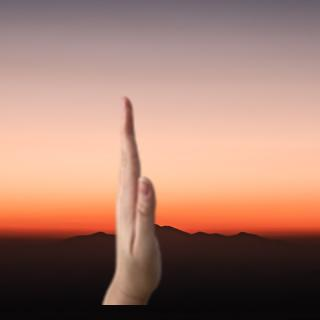Right: (82, 92, 183, 299)
